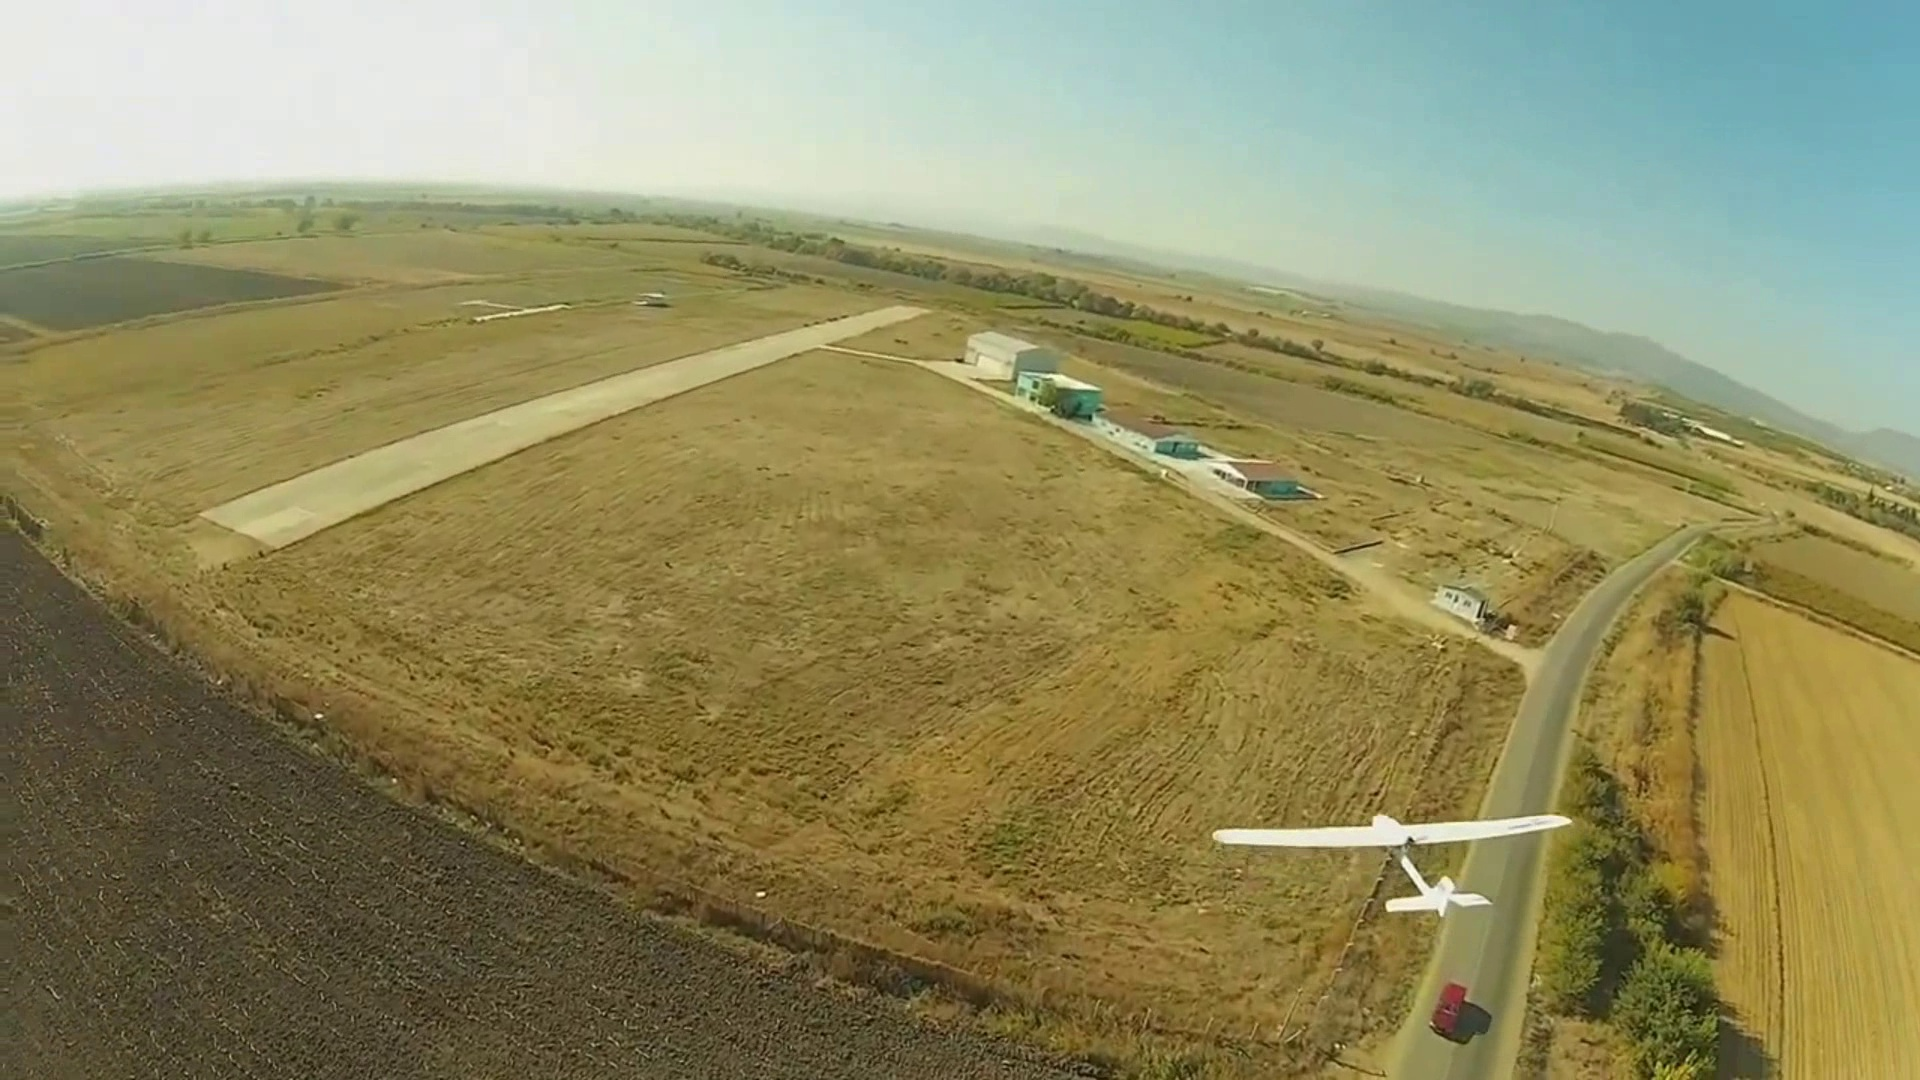airplane: (1215, 517, 1915, 1073)
